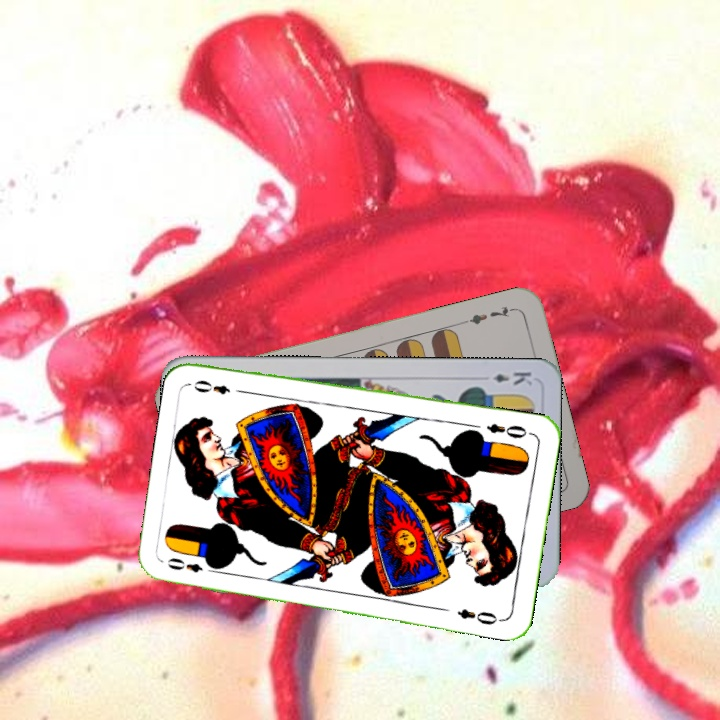E7: (461, 302, 518, 327)
EK: (489, 367, 535, 388)
EO: (163, 553, 220, 576), (483, 419, 535, 441)
